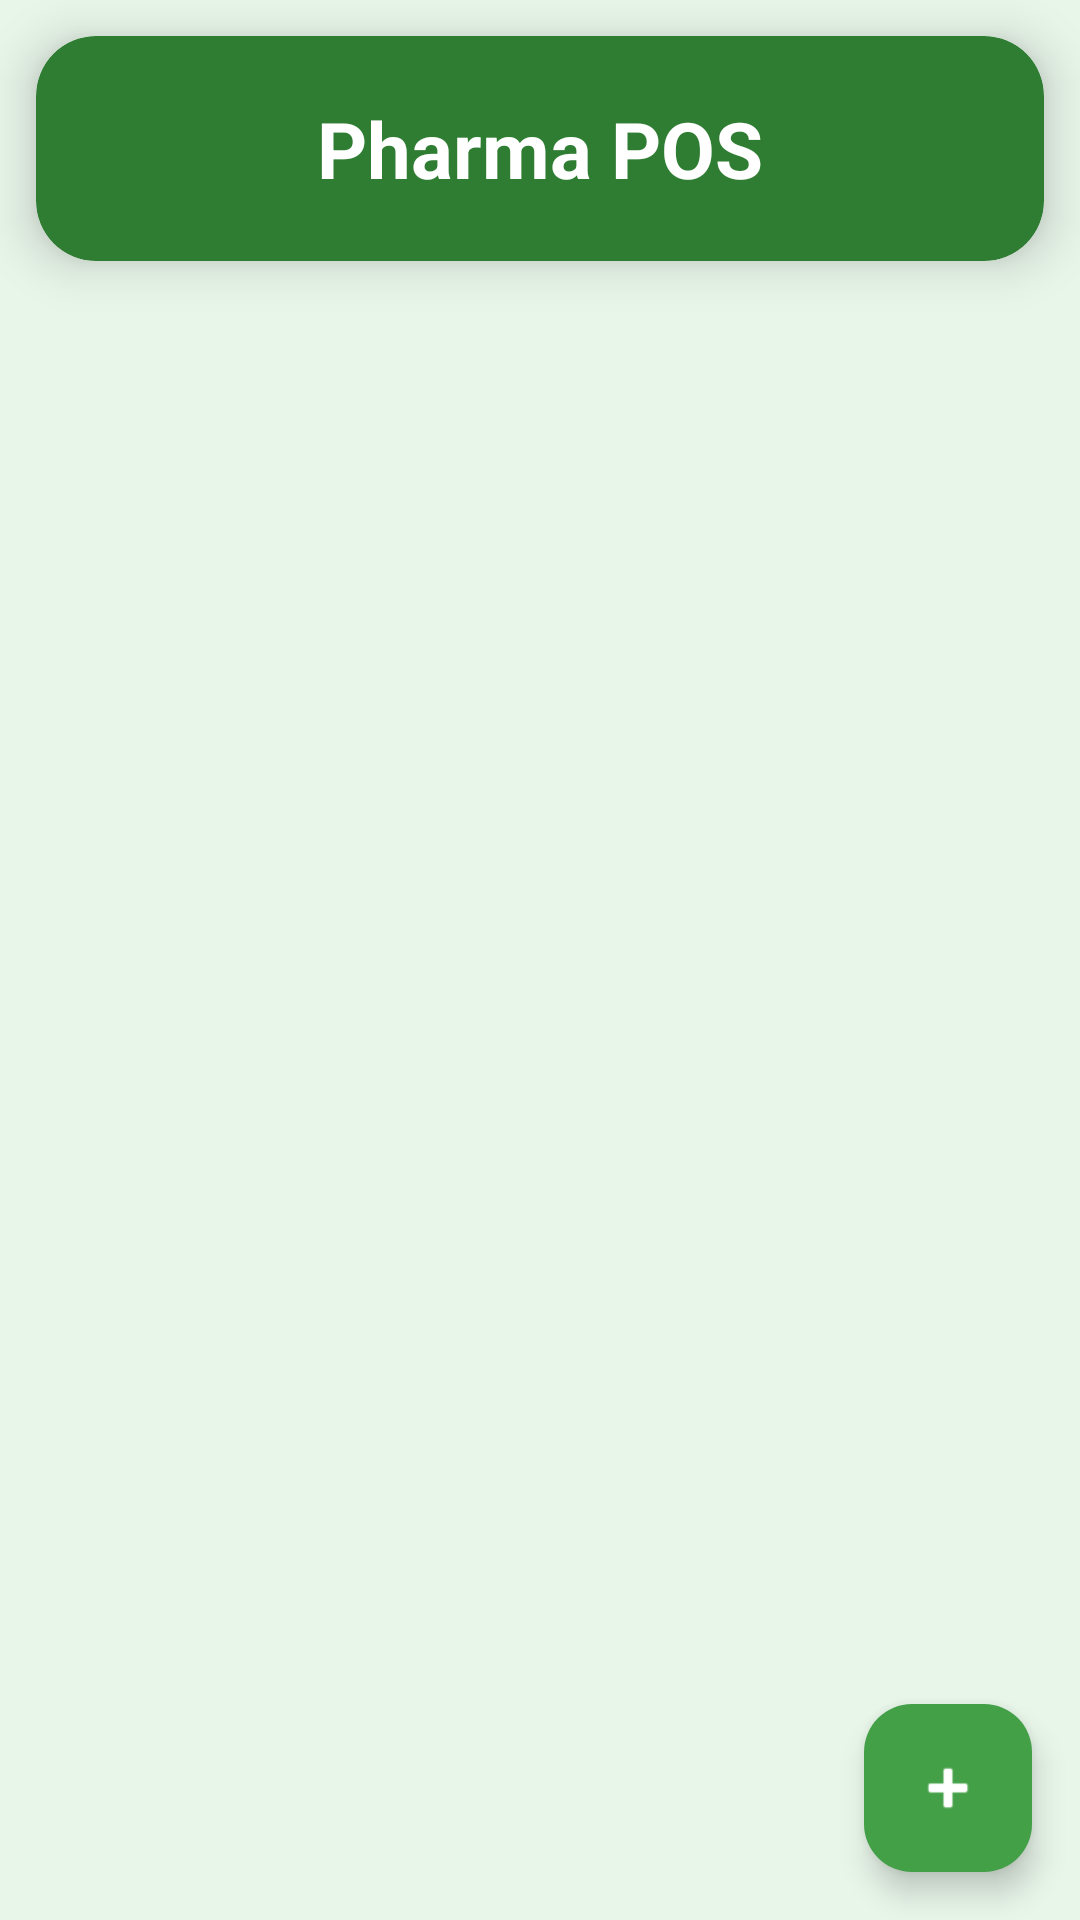

Icon click points for this 1080×1920 phone screenshot, format (x,y):
Add Medicine: (948,1788)
